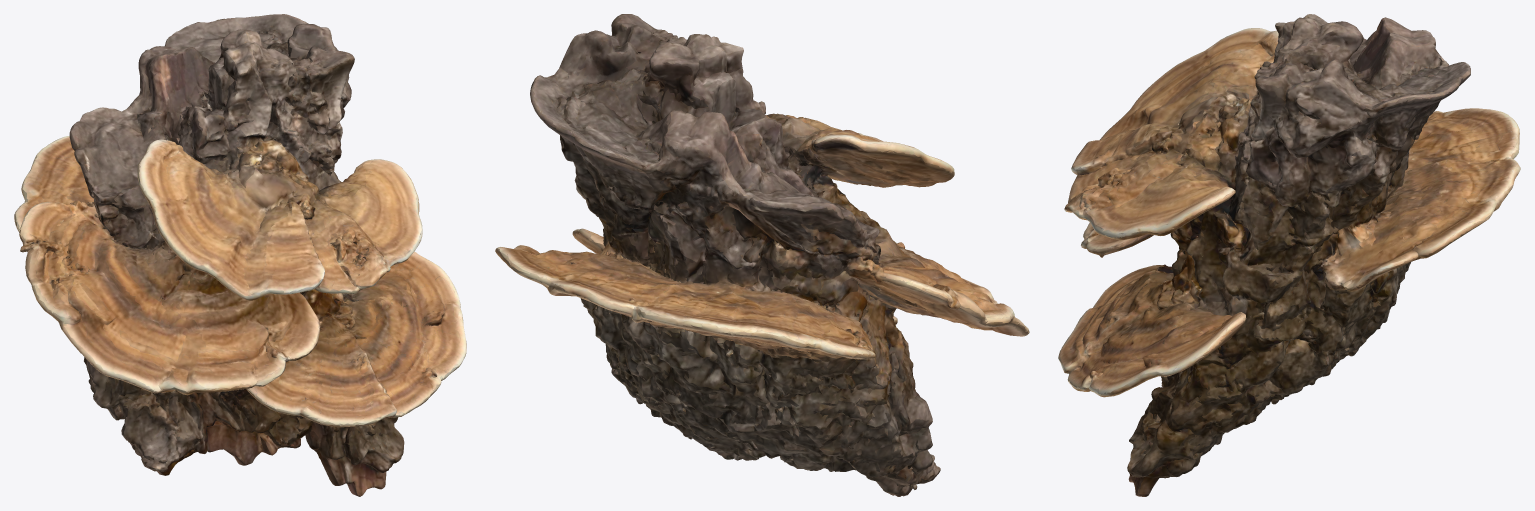
File: shelf-fungus-v12.glb
3 renders of one model, left to right at view 1: azimuth 30°, elevation 25°; view 2: azimuth 150°, elevation 25°; view 3: azimuth 270°, elevation 25°, orthographic. The views are drawn at different scales.
Parts seen in each view (by area): view 1: geometry_0; view 2: geometry_0; view 3: geometry_0.
Boxes of the visible parts, left/top/right/bottom form: geometry_0: left=14, top=14, right=466, bottom=496; geometry_0: left=495, top=14, right=1029, bottom=496; geometry_0: left=1058, top=14, right=1520, bottom=496.
Bounding box in the file's own units: 0.3146 × 0.3199 × 0.2996.
Materials: 1 (1 with a texture image).
